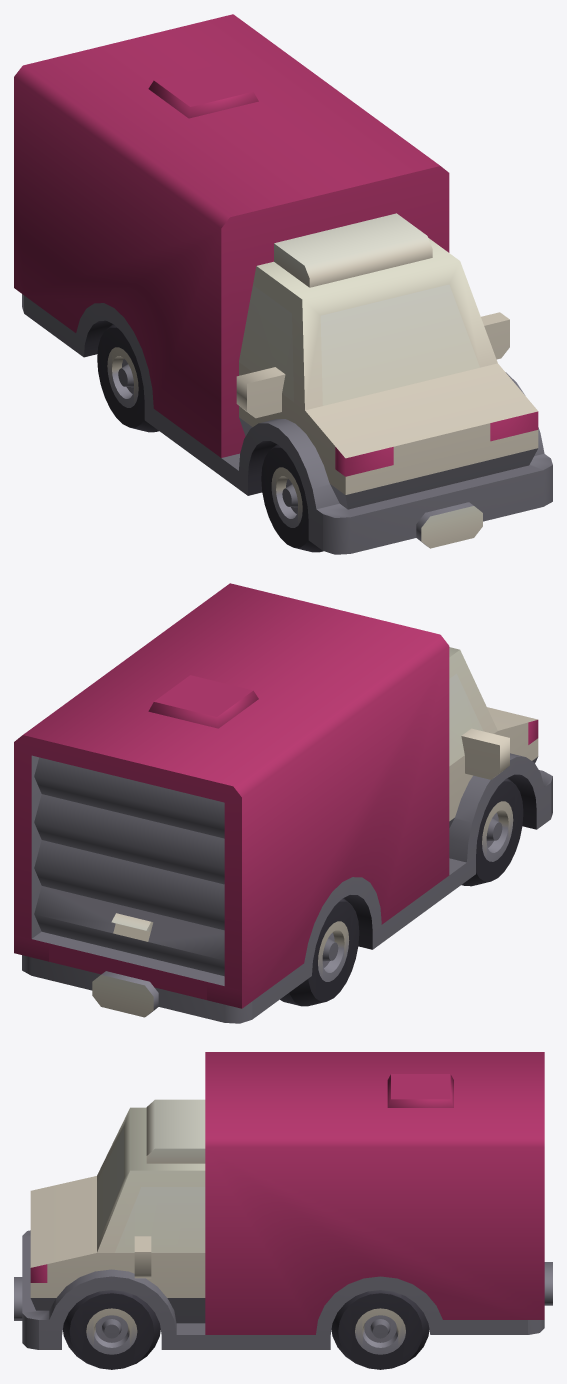
The model's file is lorry_crimson.glb.
3 renders of one model, top to bottom at view 1: azimuth 30°, elevation 25°; view 2: azimuth 150°, elevation 25°; view 3: azimuth 270°, elevation 25°, orthographic. The views are drawn at different scales.
Parts seen in each view (by area): view 1: lorry_crimson; view 2: lorry_crimson; view 3: lorry_crimson.
Part boxes in pixels (x1,y1,x2,y2): lorry_crimson: (14,14,552,554); lorry_crimson: (14,583,552,1023); lorry_crimson: (14,1052,552,1369).
Size of the model in its own units: 1.5 by 1.65 by 3.25.
